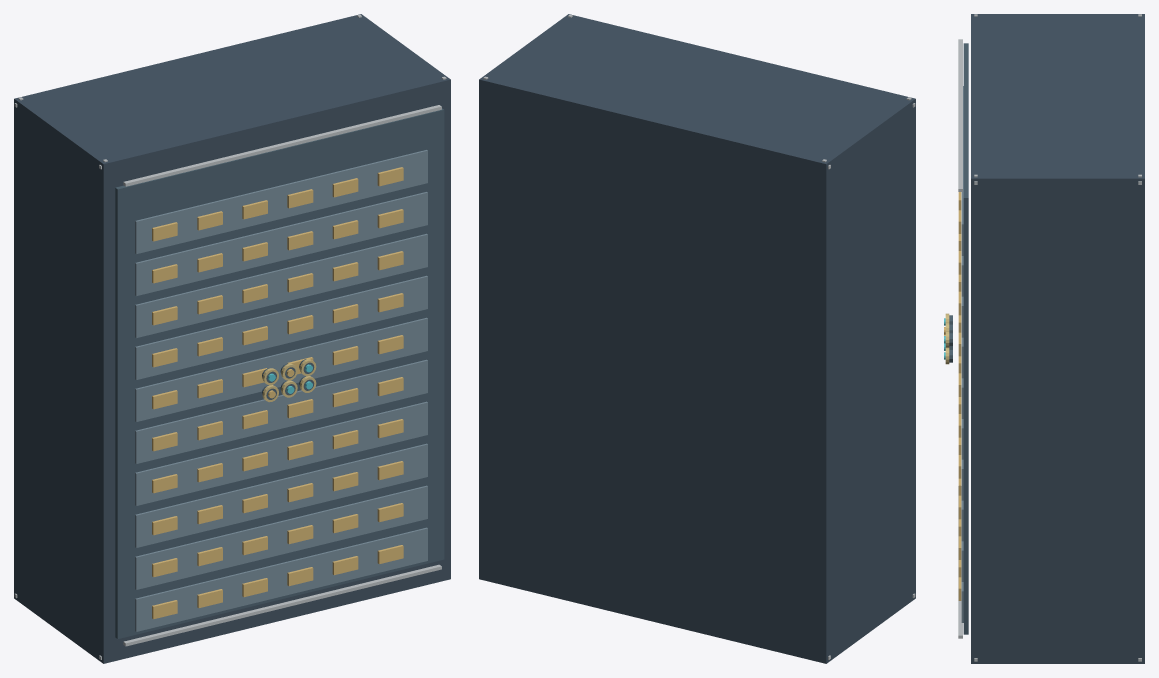
The model's file is 14_L81_HardenedMemorySubsystemRack.glb.
3 views of the same model, side by side, from view 1: azimuth 30°, elevation 25°; view 2: azimuth 150°, elevation 25°; view 3: azimuth 270°, elevation 25° (orthographic). The views are drawn at different scales.
Parts seen in each view (by area): view 1: HardenedMemorySubsystemRack_Node_0000, HardenedMemorySubsystemRack_Node_0009, HardenedMemorySubsystemRack_Node_0024, HardenedMemorySubsystemRack_Node_0017, HardenedMemorySubsystemRack_Node_0031, HardenedMemorySubsystemRack_Node_0010, HardenedMemorySubsystemRack_Node_0052, HardenedMemorySubsystemRack_Node_0073, HardenedMemorySubsystemRack_Node_0059, HardenedMemorySubsystemRack_Node_0066, HardenedMemorySubsystemRack_Node_0038, HardenedMemorySubsystemRack_Node_0045 (+2 smaller); view 2: HardenedMemorySubsystemRack_Node_0000; view 3: HardenedMemorySubsystemRack_Node_0000, HardenedMemorySubsystemRack_Node_0009, HardenedMemorySubsystemRack_Node_0081, HardenedMemorySubsystemRack_Node_0080.
Part boxes in pixels (x1=…): HardenedMemorySubsystemRack_Node_0000: x1=14, y1=14, x2=450, y2=663; HardenedMemorySubsystemRack_Node_0009: x1=115, y1=108, x2=444, y2=638; HardenedMemorySubsystemRack_Node_0024: x1=135, y1=443, x2=427, y2=547; HardenedMemorySubsystemRack_Node_0017: x1=135, y1=485, x2=427, y2=589; HardenedMemorySubsystemRack_Node_0031: x1=135, y1=401, x2=427, y2=505; HardenedMemorySubsystemRack_Node_0010: x1=135, y1=527, x2=427, y2=631; HardenedMemorySubsystemRack_Node_0052: x1=135, y1=275, x2=427, y2=379; HardenedMemorySubsystemRack_Node_0073: x1=135, y1=150, x2=427, y2=254; HardenedMemorySubsystemRack_Node_0059: x1=135, y1=233, x2=427, y2=337; HardenedMemorySubsystemRack_Node_0066: x1=135, y1=192, x2=427, y2=295; HardenedMemorySubsystemRack_Node_0038: x1=135, y1=359, x2=427, y2=463; HardenedMemorySubsystemRack_Node_0045: x1=135, y1=317, x2=427, y2=421; HardenedMemorySubsystemRack_Node_0000: x1=479, y1=14, x2=915, y2=663; HardenedMemorySubsystemRack_Node_0000: x1=971, y1=14, x2=1144, y2=663; HardenedMemorySubsystemRack_Node_0009: x1=963, y1=43, x2=968, y2=634; HardenedMemorySubsystemRack_Node_0081: x1=958, y1=39, x2=962, y2=191; HardenedMemorySubsystemRack_Node_0080: x1=958, y1=486, x2=962, y2=638.
Bounding box in the file's own units: 2.82 × 3.87 × 1.44.
